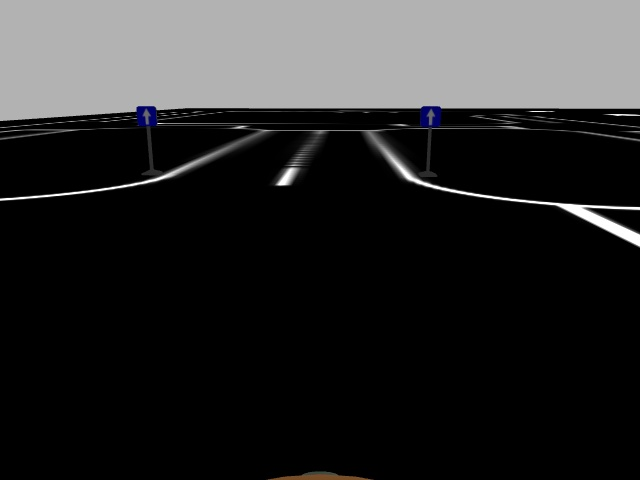oneway: (419, 102, 443, 130), (134, 103, 158, 128)
